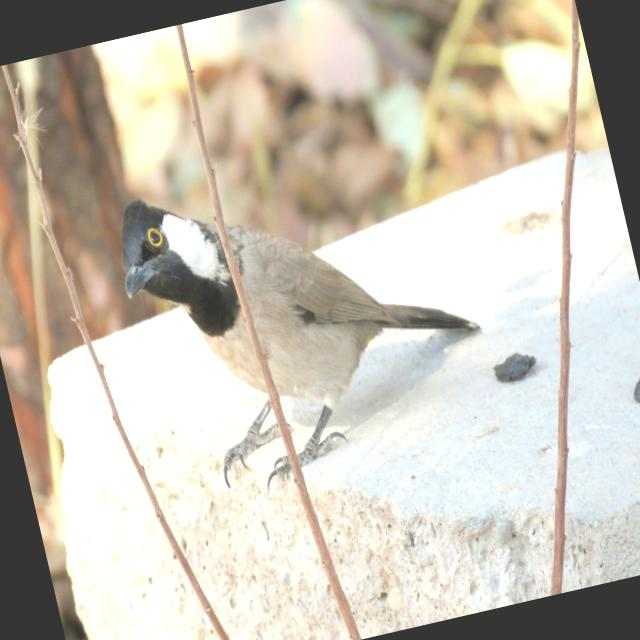bird: (96, 113, 512, 516)
